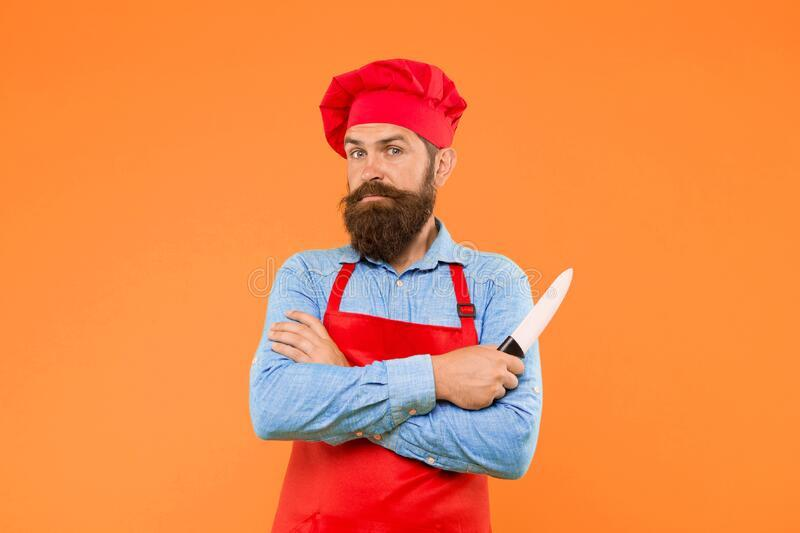criminal: (247, 56, 576, 533)
weapon: (495, 265, 576, 365)
